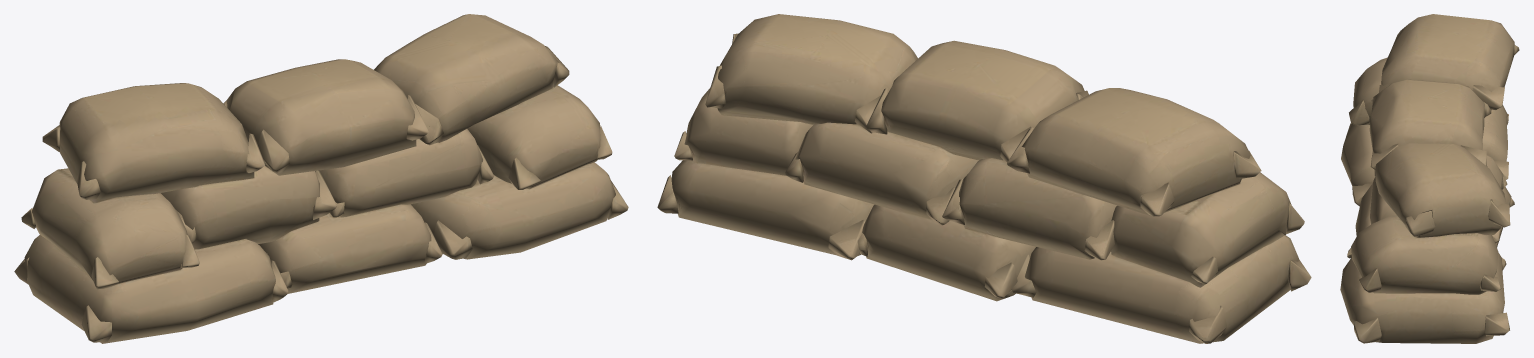
The model's file is sandbag.glb.
3 renders of one model, left to right at view 1: azimuth 30°, elevation 25°; view 2: azimuth 150°, elevation 25°; view 3: azimuth 270°, elevation 25°, orthographic. The views are drawn at different scales.
Bounding box in the file's own units: 0.9502 × 0.3071 × 0.3354.
1 material, 1 textured.
